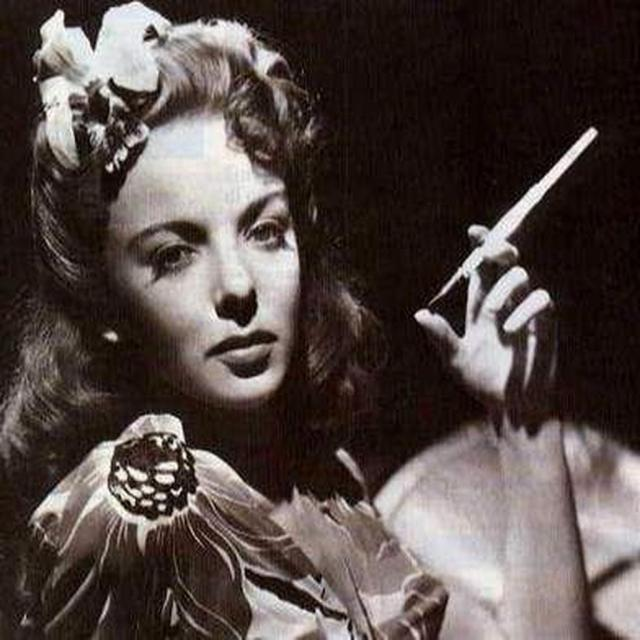smoking: (29, 15, 600, 494)
